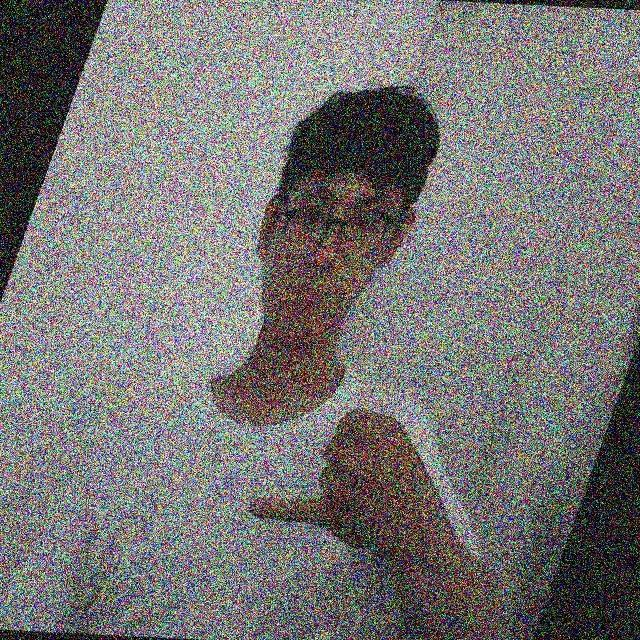J: (243, 404, 417, 554)
